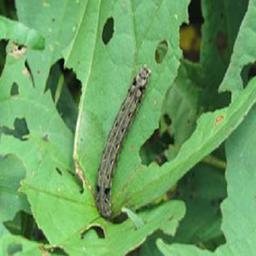Tobacco_budworm: (93, 66, 152, 217)
